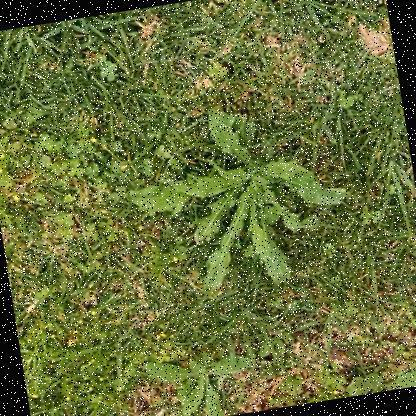Weeds: (113, 79, 362, 301), (141, 337, 260, 415), (341, 358, 415, 397)
